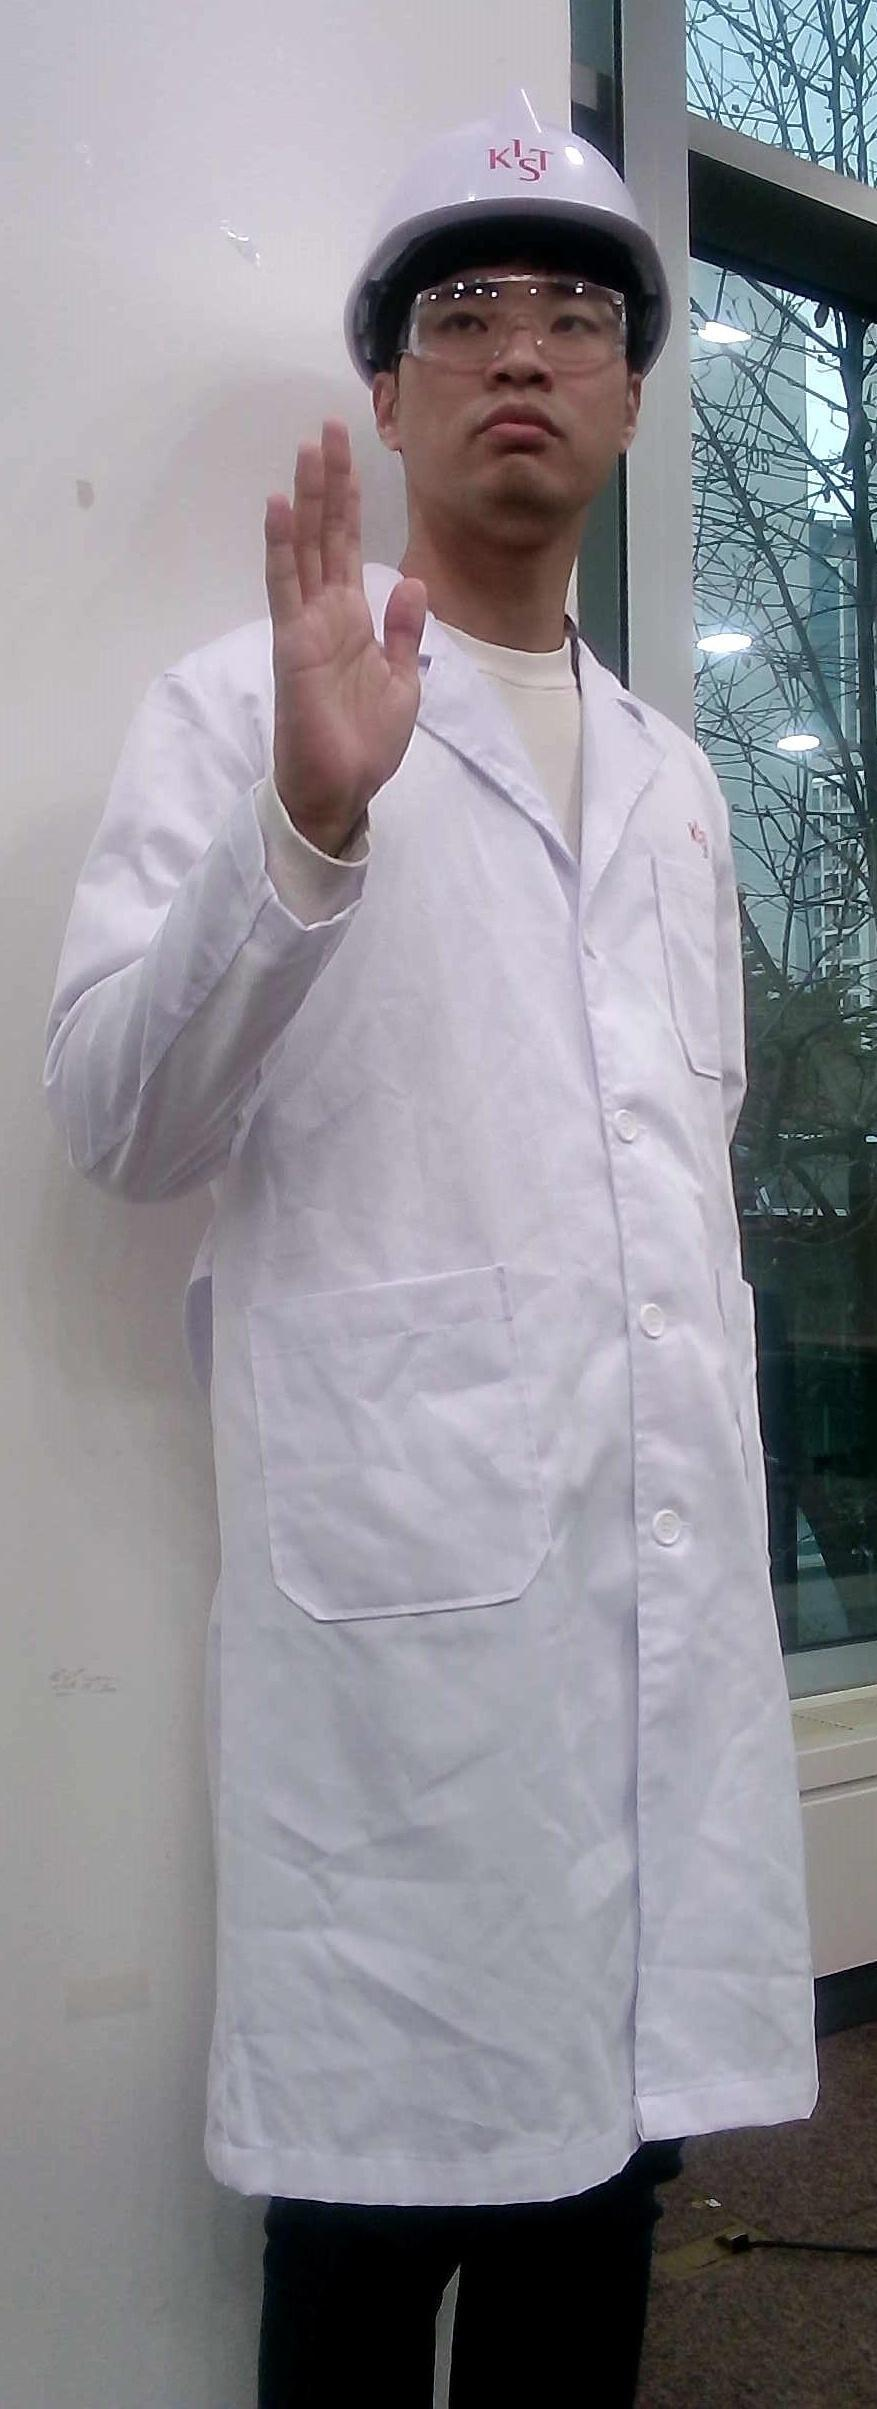lab_coat: (101, 771, 849, 2129)
